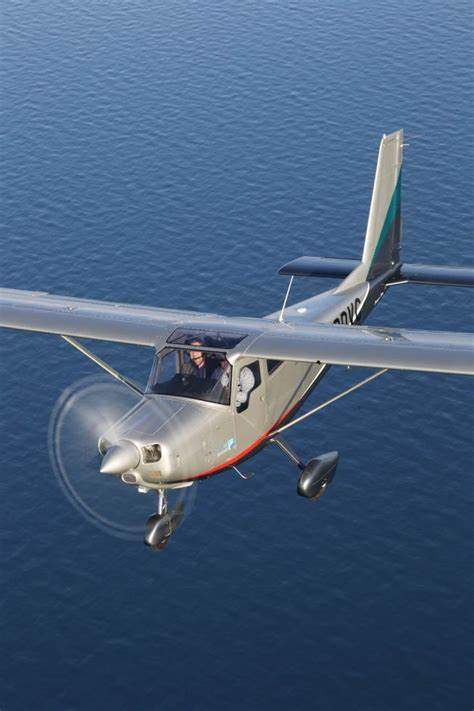Aeronef_de_loisir: (1, 88, 474, 586)
